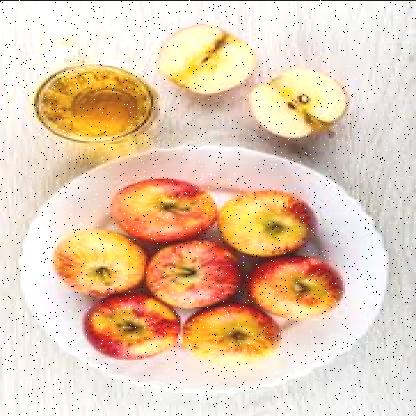apple: (212, 186, 309, 260), (146, 235, 244, 306), (100, 176, 212, 236), (250, 250, 350, 314), (43, 231, 141, 292), (178, 306, 274, 368), (87, 295, 167, 359)
damaged_apple: (154, 20, 254, 98), (247, 68, 350, 138)
